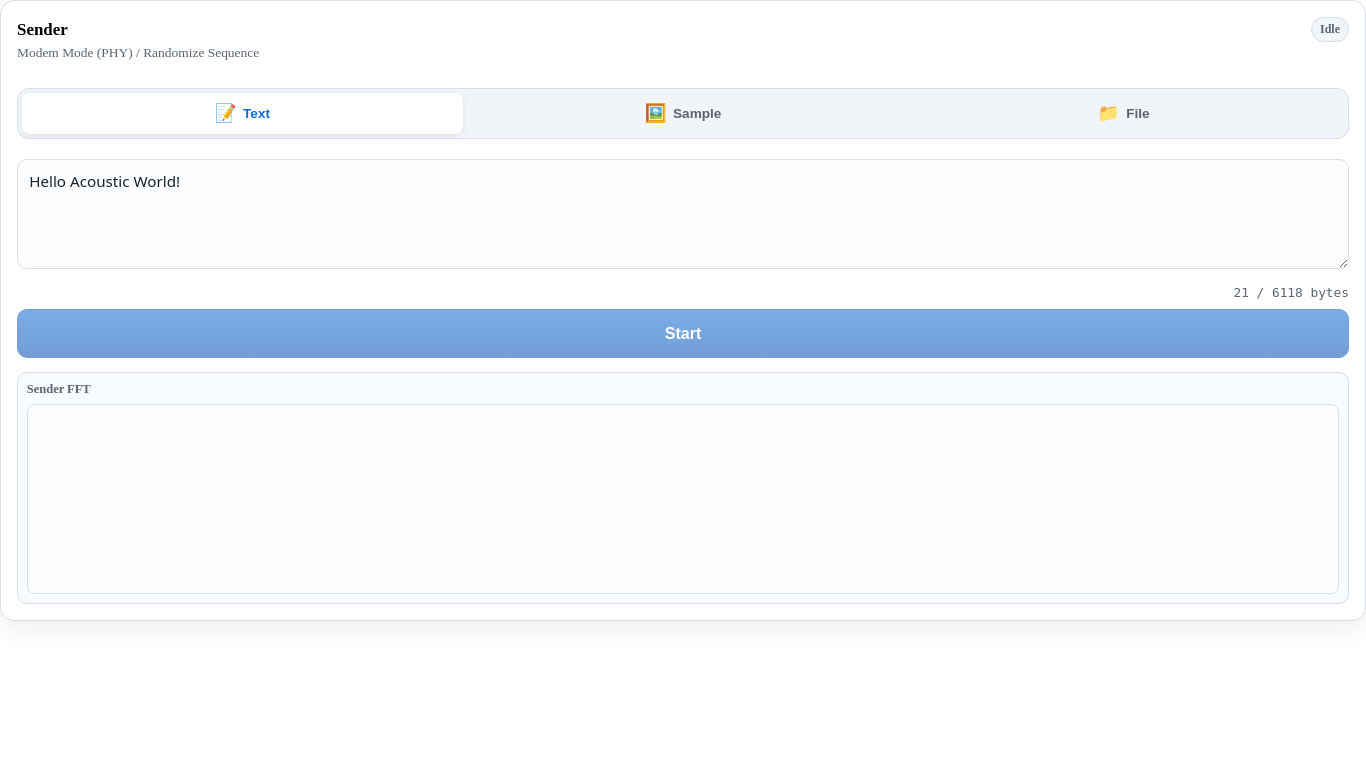
Test: Sender.vue › Sample Image Preview › should show sample preview when sample mode is selected
Click the button with class "tab-item" showing "🖼️ Sample". click: (683, 114)
box: [463, 93, 903, 134]
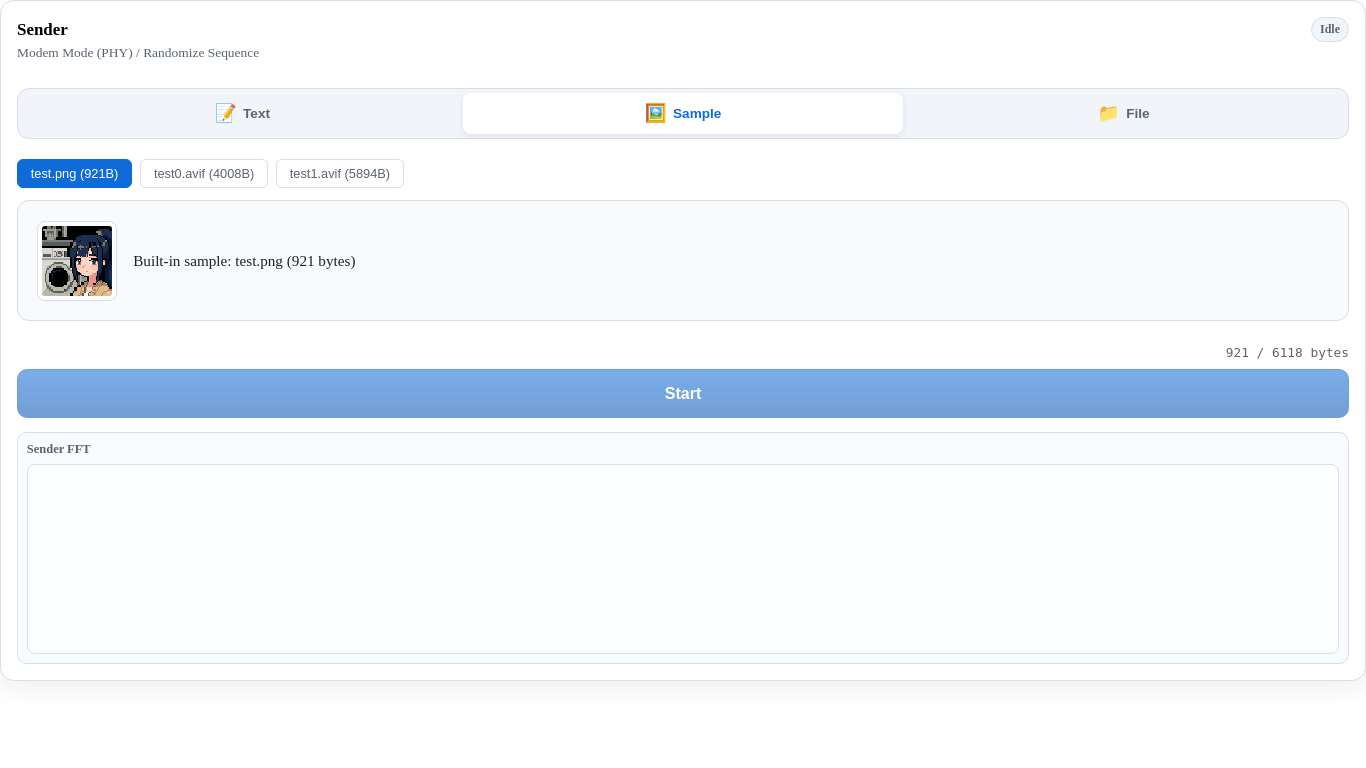
Expected: the element with class "sample-preview" is shown, [17, 200, 1349, 321]
Expected: the picture named "test.png" is shown, [37, 220, 117, 300]
